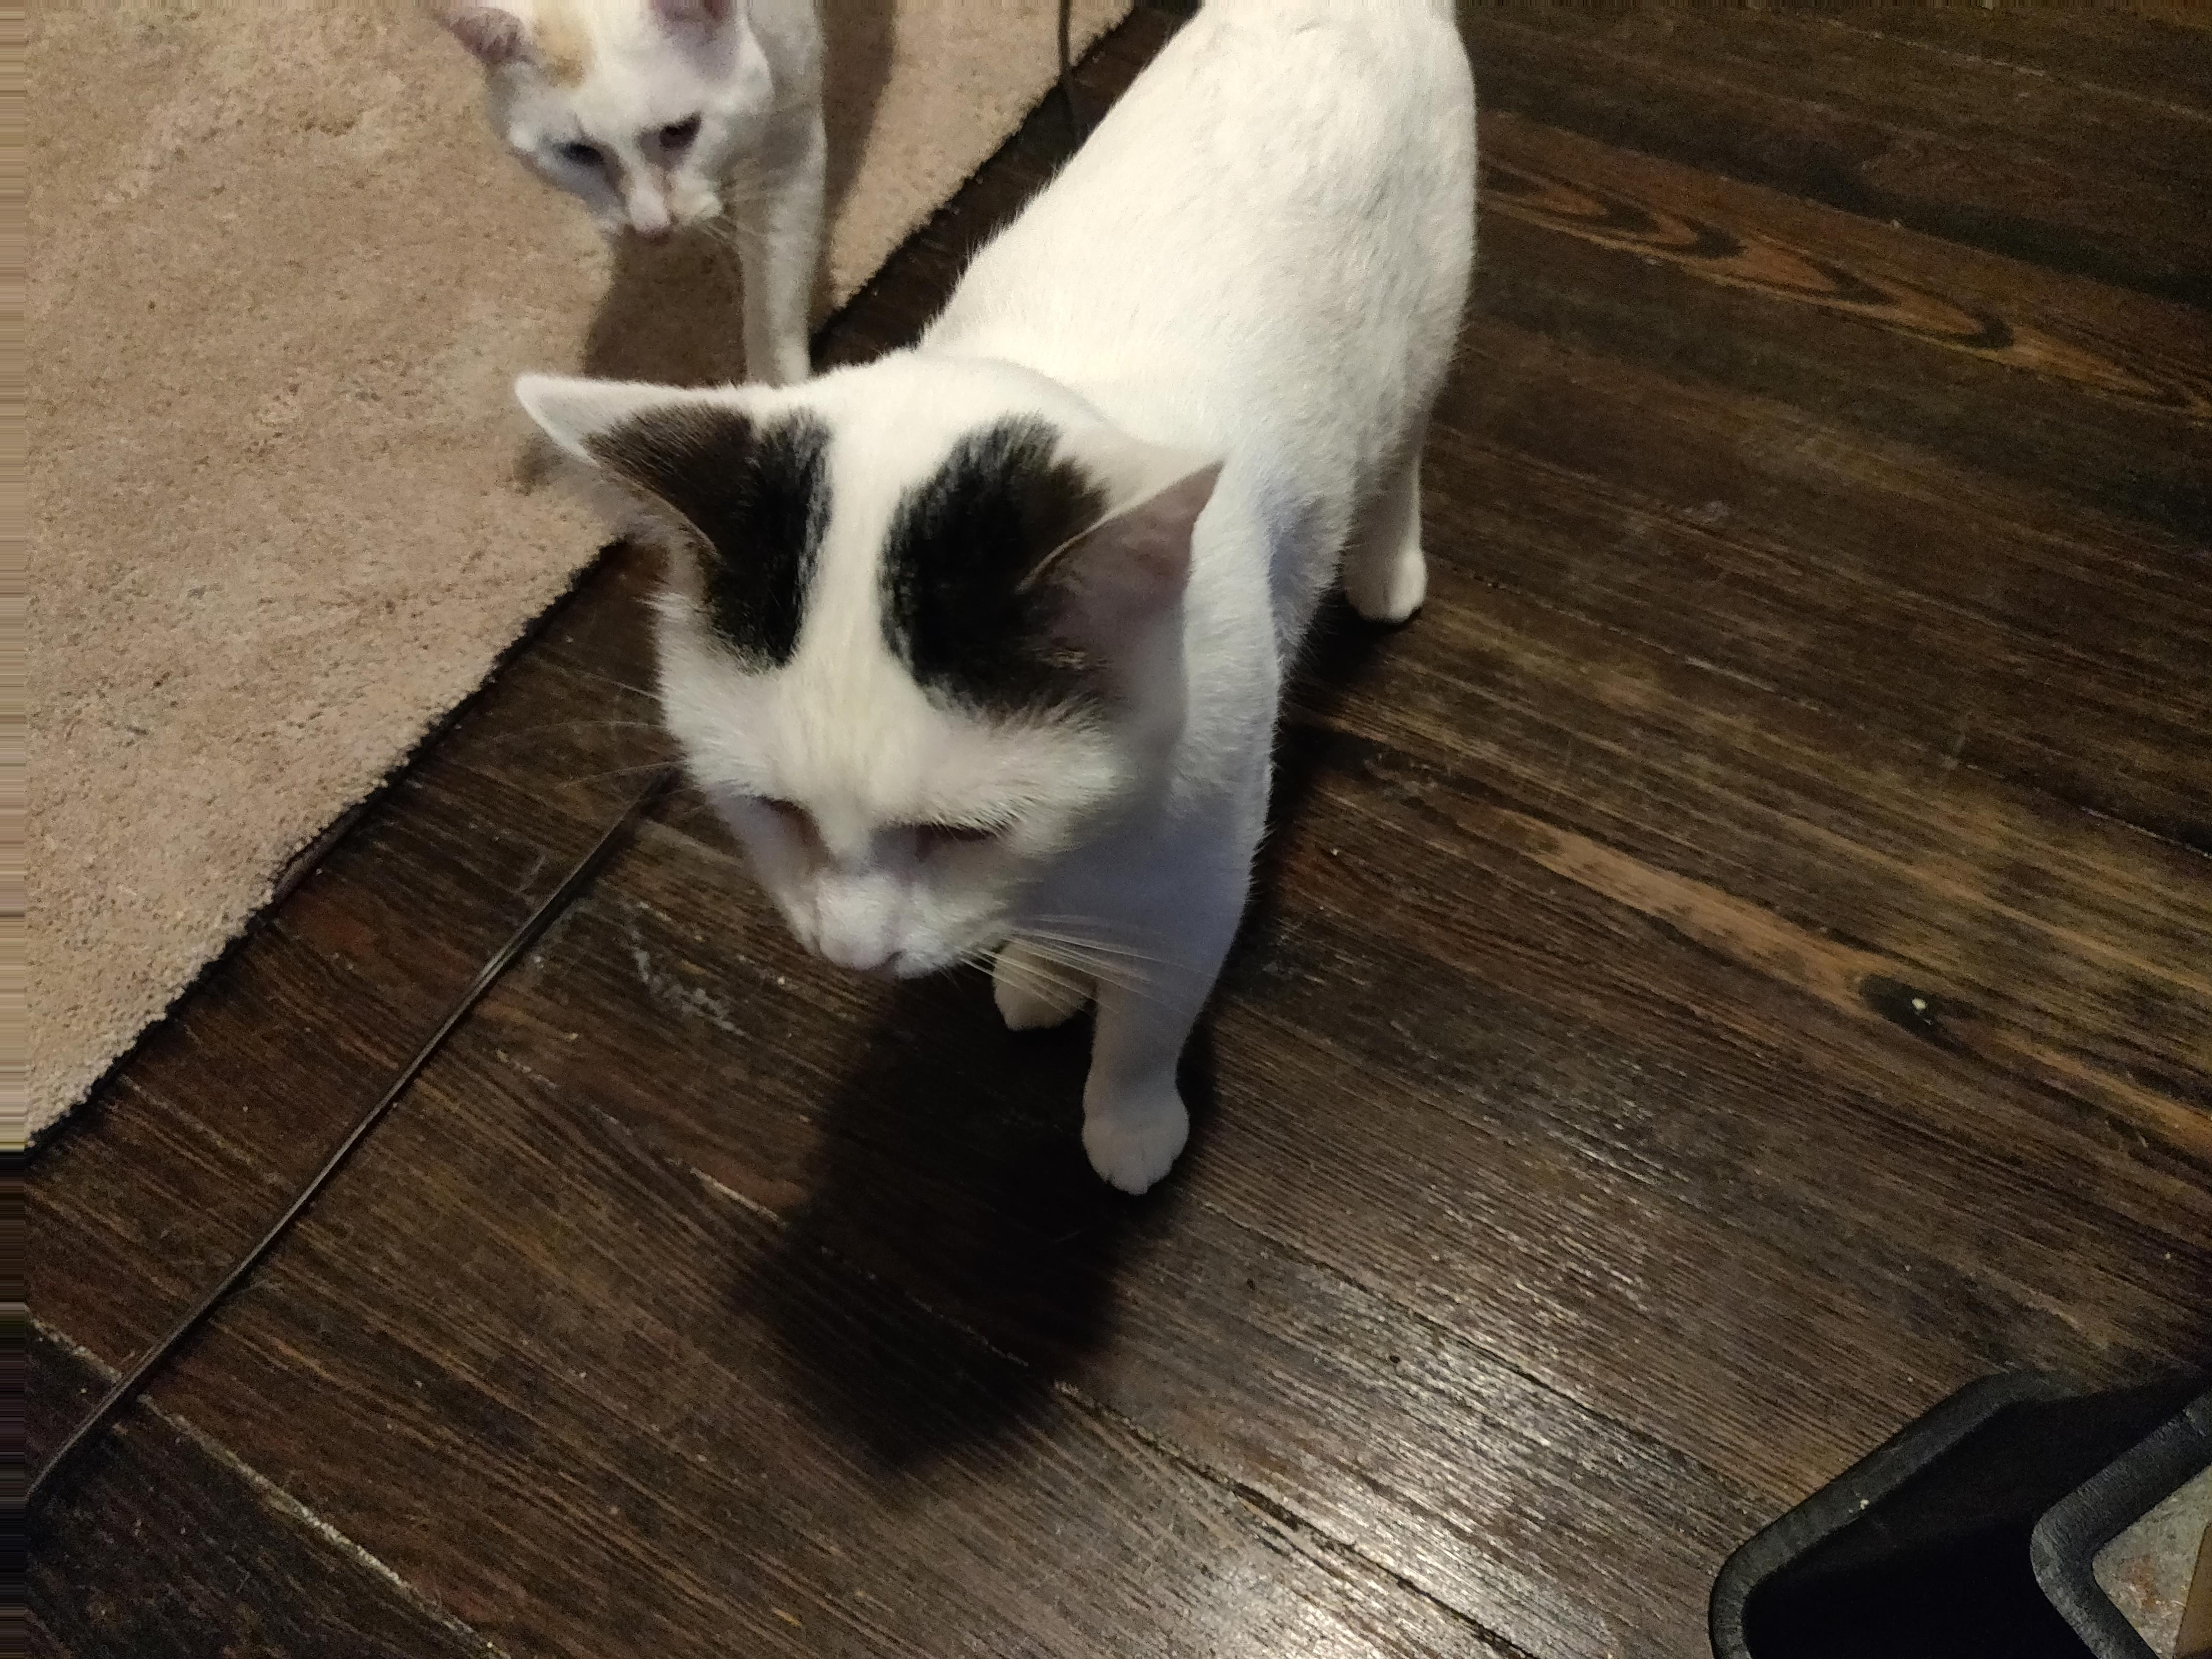cat: (431, 0, 1474, 1214)
